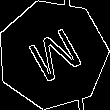M_SE: (20, 21, 85, 87)
